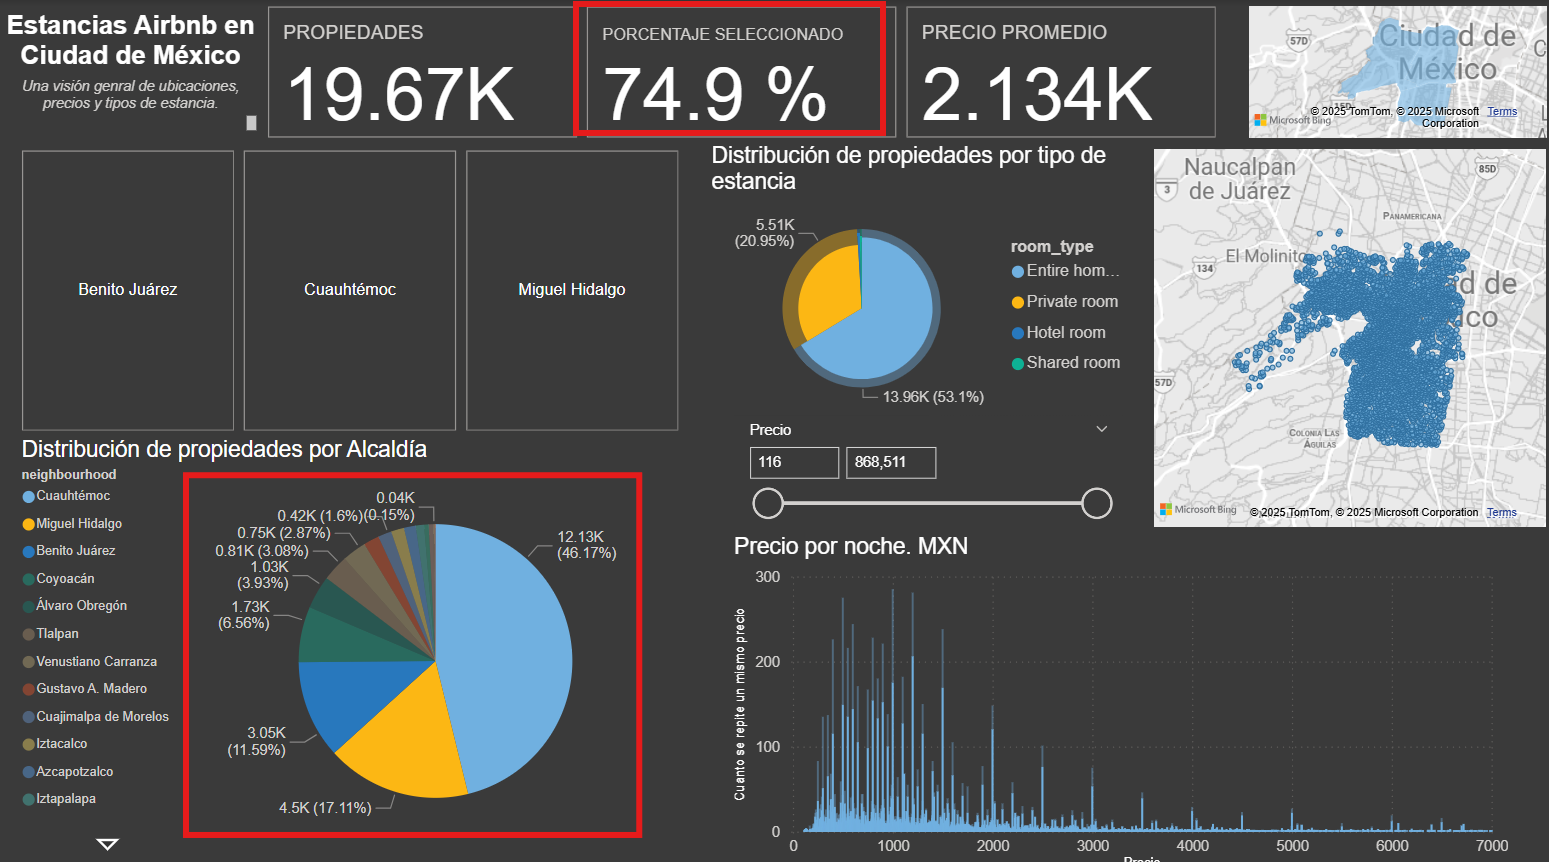

Layout of this report page (visuals, bound fields, positions):
{"tool":"powerbi","page":{"name":"Dashboard","canvas":[1280,720],"ordinal":0},"visuals":[{"type":"advancedSlicerVisual","fields":{"Values":["Sheet1.neighbourhood"]},"box":[13.7,118,553,241.5],"z":0},{"type":"map","fields":{"Y":["Sheet1.latitude"],"X":["Sheet1.longitude"]},"box":[946.2,117.6,333.9,321.7],"z":1000},{"type":"filledMap","fields":{"Category":["Sheet1.Mapa_Alcaldia"]},"box":[1024.4,0,256.4,118.6],"z":2000},{"type":"pieChart","title":"Distribución de propiedades por Alcaldía","fields":{"Category":["Sheet1.neighbourhood"],"Y":["CountNonNull(Sheet1.neighbourhood)"]},"box":[13.7,359.5,553,348.6],"z":3000},{"type":"cardVisual","title":"propiedades","fields":{"Data":["Sheet1.TOTAL PROPIEDADES","Sheet1.PercentageSelected","Sheet1.PROMEDIO PRECIOS"]},"box":[216.7,0,791.7,118.3],"z":4000},{"type":"pieChart","title":"Distribución de propiedades por tipo de estancia","fields":{"Category":["Sheet1.room_type"],"Y":["CountNonNull(Sheet1.room_type)"]},"box":[582.6,117.6,363.6,231.1],"z":5000},{"type":"textbox","title":"Estancias Airbnb en Ciudad de México","box":[0,8.2,216.8,101.6],"z":6000},{"type":"columnChart","title":"Precio por noche. MXN","fields":{"Category":["Sheet1.price"],"Y":["CountNonNull(Sheet1.price)"]},"box":[600.2,439.3,647.5,281.2],"z":7000},{"type":"slicer","fields":{"Values":["Sheet1.price"]},"box":[605.6,342,320.4,97.3],"z":8000}]}

Visuals, with their boxes in screenshot pixels (x1, y1, x2, y2), scaled from the page's 1280x720 canvas onto the 1549x862 screenshot:
advancedSlicerVisual - Sheet1.neighbourhood: [x1=17, y1=141, x2=686, y2=430]
map - Sheet1.latitude x Sheet1.longitude: [x1=1145, y1=141, x2=1548, y2=526]
filledMap - Sheet1.Mapa_Alcaldia: [x1=1240, y1=0, x2=1548, y2=142]
"Distribución de propiedades por Alcaldía" pieChart: [x1=17, y1=430, x2=686, y2=848]
"propiedades" cardVisual: [x1=262, y1=0, x2=1220, y2=142]
"Distribución de propiedades por tipo de estancia" pieChart: [x1=705, y1=141, x2=1145, y2=417]
"Estancias Airbnb en Ciudad de México" textbox: [x1=0, y1=10, x2=262, y2=131]
"Precio por noche. MXN" columnChart: [x1=726, y1=526, x2=1510, y2=861]
slicer - Sheet1.price: [x1=733, y1=409, x2=1121, y2=526]
